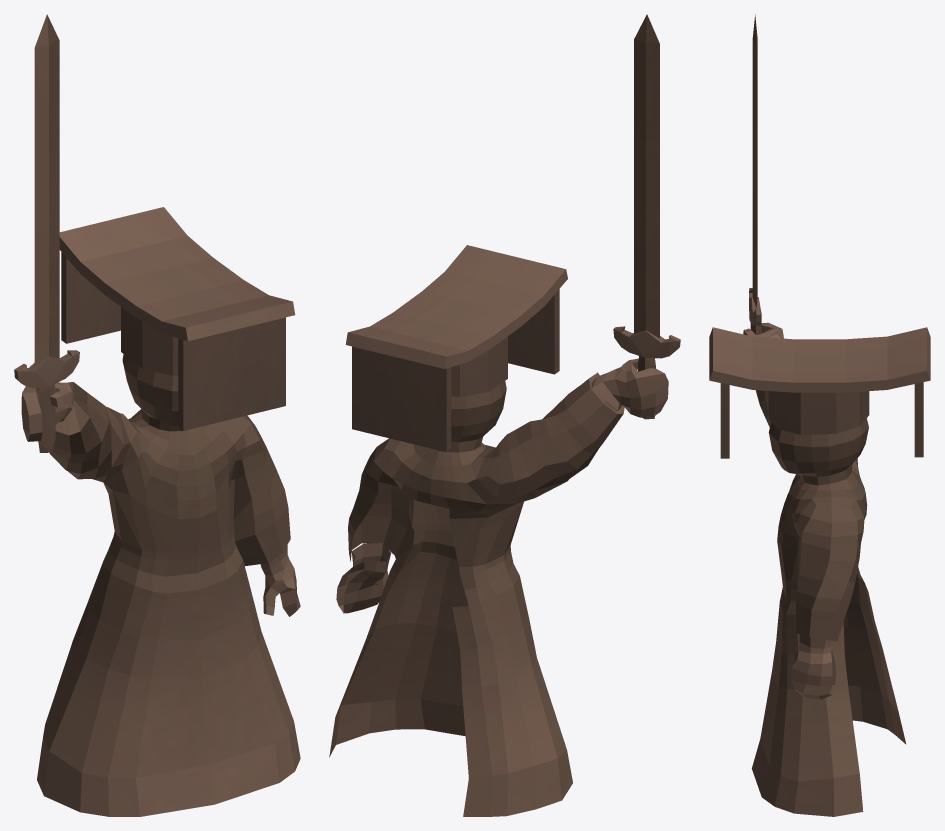
Rendered from statue_wood.fbx.
3 views of the same model, side by side, from view 1: azimuth 30°, elevation 25°; view 2: azimuth 150°, elevation 25°; view 3: azimuth 270°, elevation 25° (orthographic). The views are drawn at different scales.
Visible parts, largest first — view 1: statue_wood; view 2: statue_wood; view 3: statue_wood.
Part boxes in pixels (x1,y1,x2,y2): statue_wood: [14, 14, 300, 816]; statue_wood: [329, 14, 680, 816]; statue_wood: [709, 14, 930, 816].
Size of the model in its own units: 1.72 by 4.22 by 1.23.
1 material, 1 textured.
